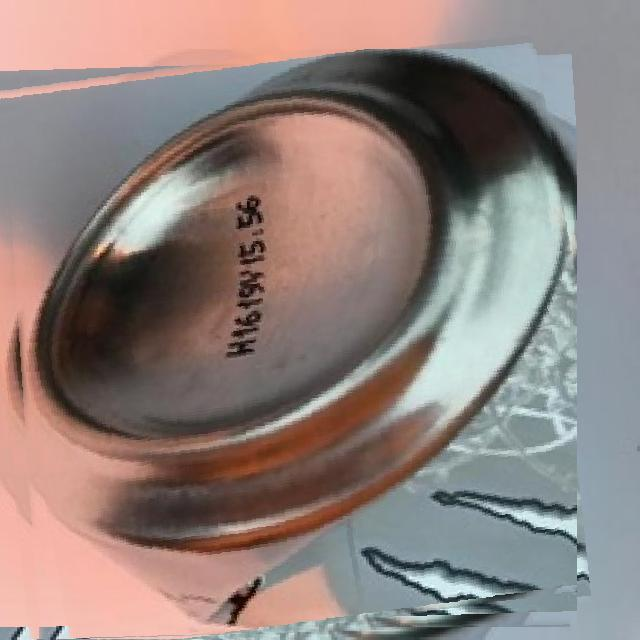recyclable: (0, 49, 577, 640)
